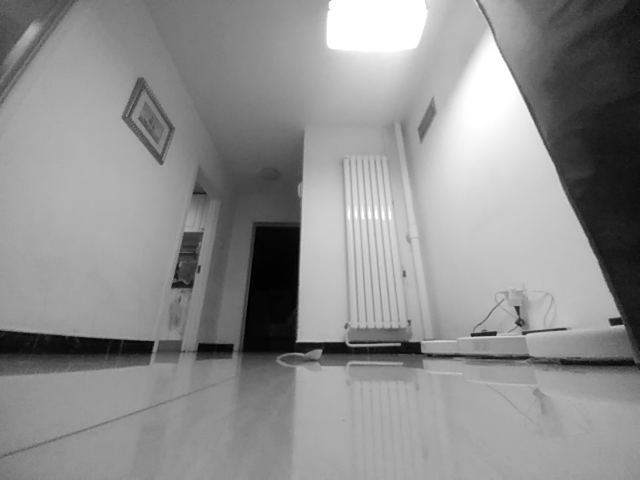others: (276, 344, 324, 363)
